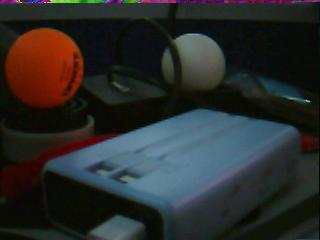oball: (5, 28, 83, 105)
